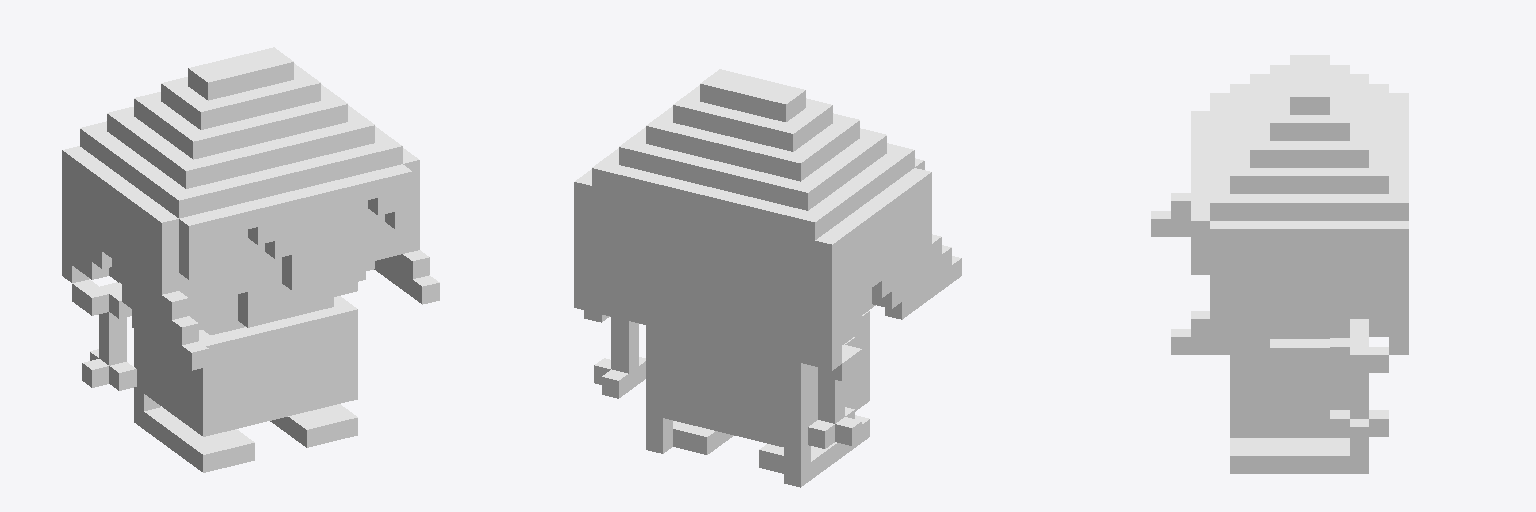
File: Armoured Skeleton.vox.obj
3 renders of one model, left to right at view 1: azimuth 30°, elevation 25°; view 2: azimuth 150°, elevation 25°; view 3: azimuth 270°, elevation 25°, orthographic.
Parts seen in each view (by area): view 1: object 1; view 2: object 1; view 3: object 1.
Part boxes in pixels (x1,y1,x2,y2): object 1: (62, 47, 439, 472); object 1: (574, 69, 961, 487); object 1: (1151, 55, 1408, 473).
Bounding box in the file's own units: 1.5 × 2 × 1.3.